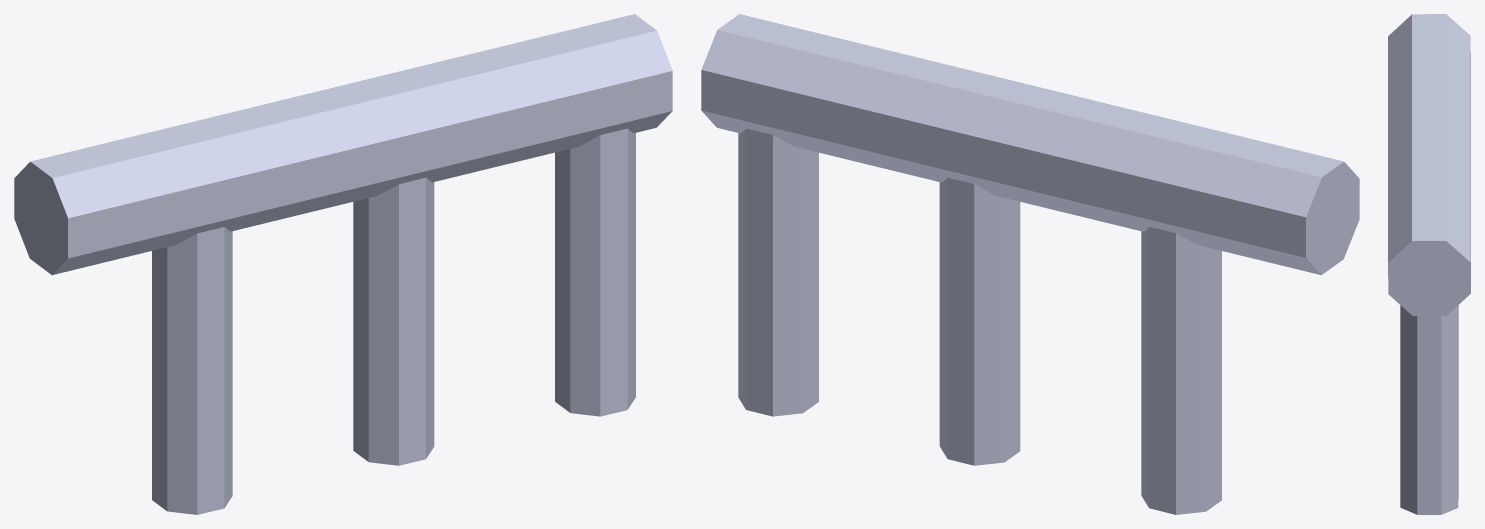
Rendered from stage4_fence.fbx.
3 renders of one model, left to right at view 1: azimuth 30°, elevation 25°; view 2: azimuth 150°, elevation 25°; view 3: azimuth 270°, elevation 25°, orthographic. The views are drawn at different scales.
Parts seen in each view (by area): view 1: fence; view 2: fence; view 3: fence.
Boxes of the visible parts, box(x1,y1,x2,y2) form: fence: box(14, 14, 672, 514); fence: box(701, 14, 1359, 514); fence: box(1388, 14, 1470, 514).
Bounding box in the file's own units: 600 × 346 × 92.72.
